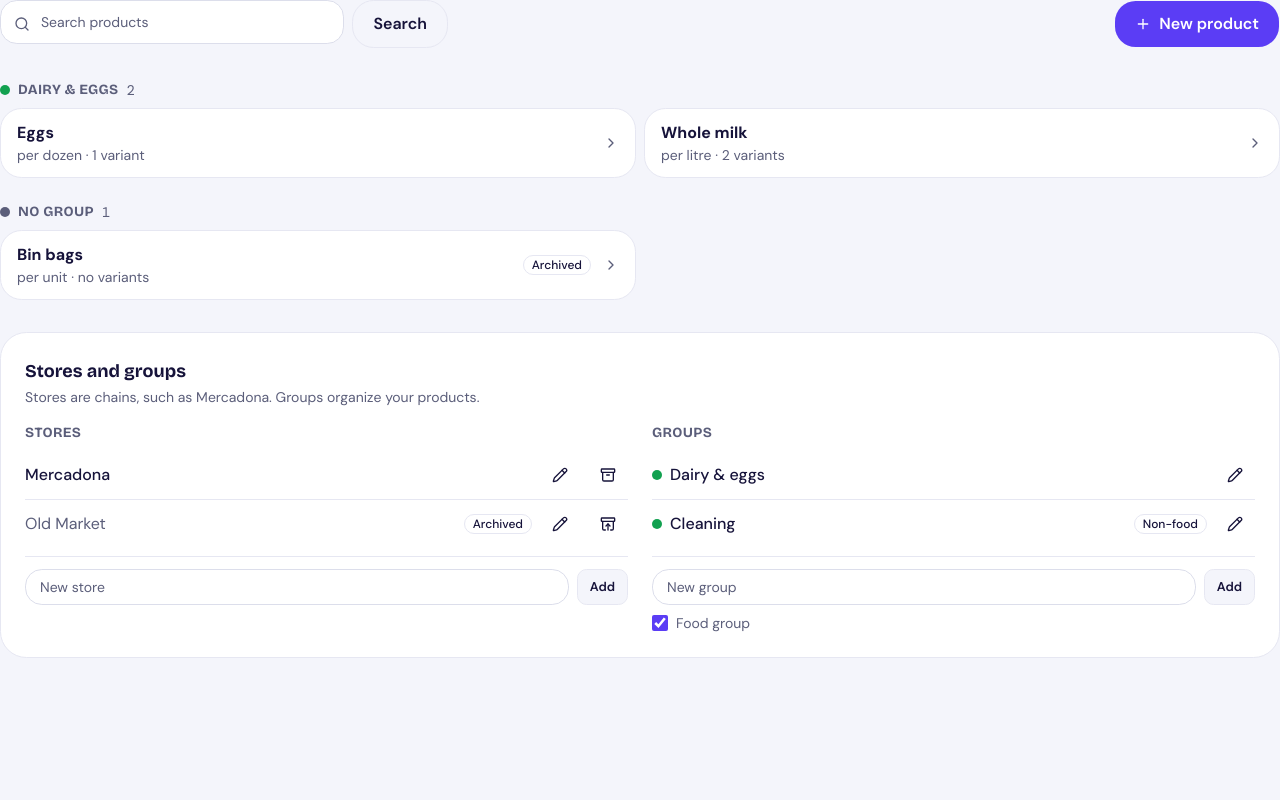
Test: ProductsList › creates a product from the dialog
The image size is (1280, 800).
Click the button "New product". click: x=1197, y=24
box: [1114,0,1279,48]
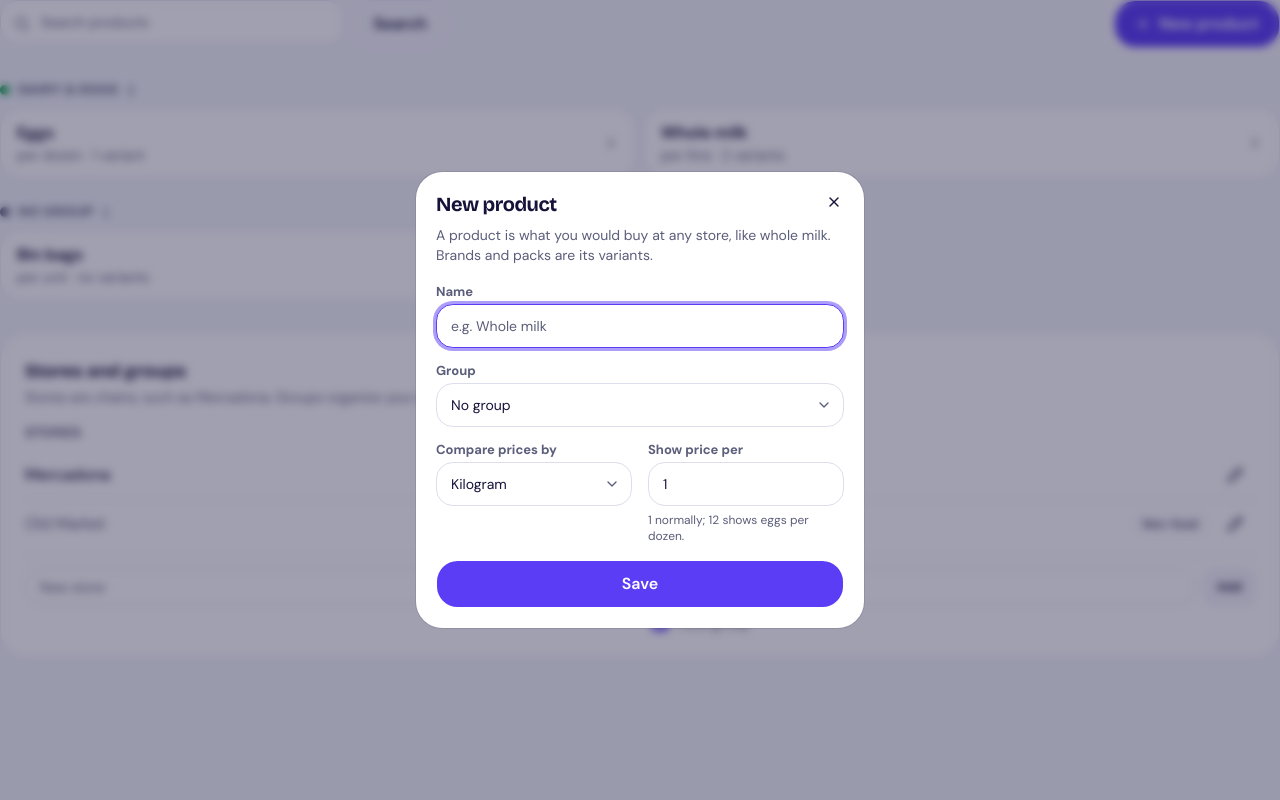
Type "Butter" into the field labelled "Name". click: x=640, y=326
box: [436,304,844,348]
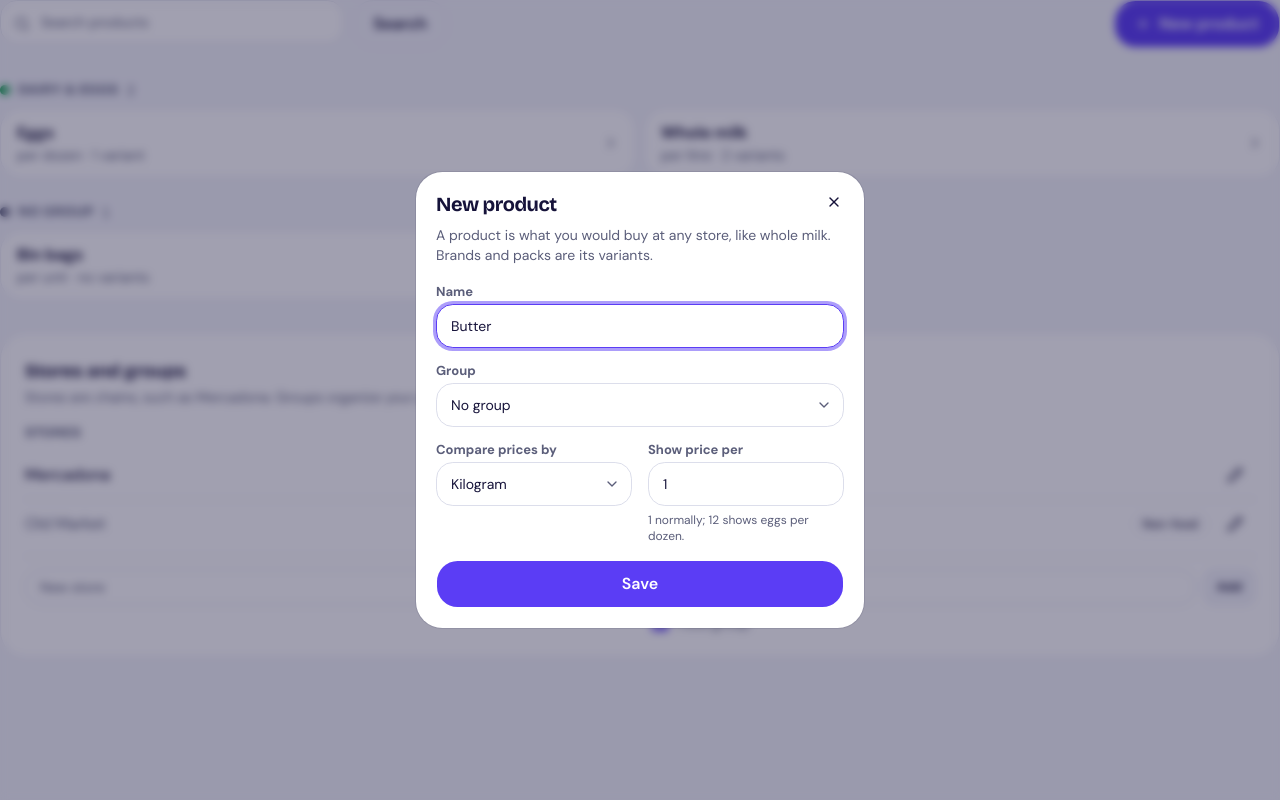
Select "Dairy & eggs" in the dropdown labelled "Group". click: x=640, y=405
box: [436,383,844,427]
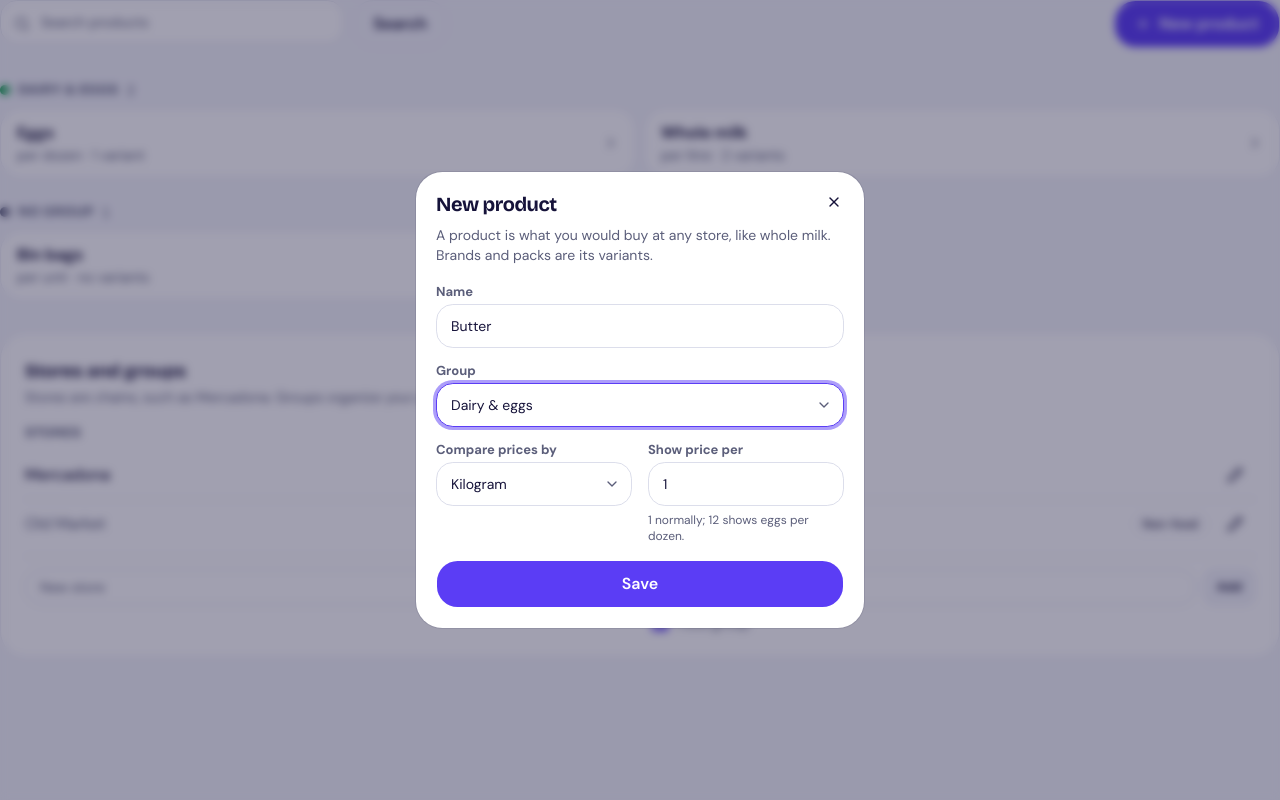
Select "Kilogram" in the dropdown labelled "Compare prices by". click: x=534, y=484
box: [436,462,632,506]
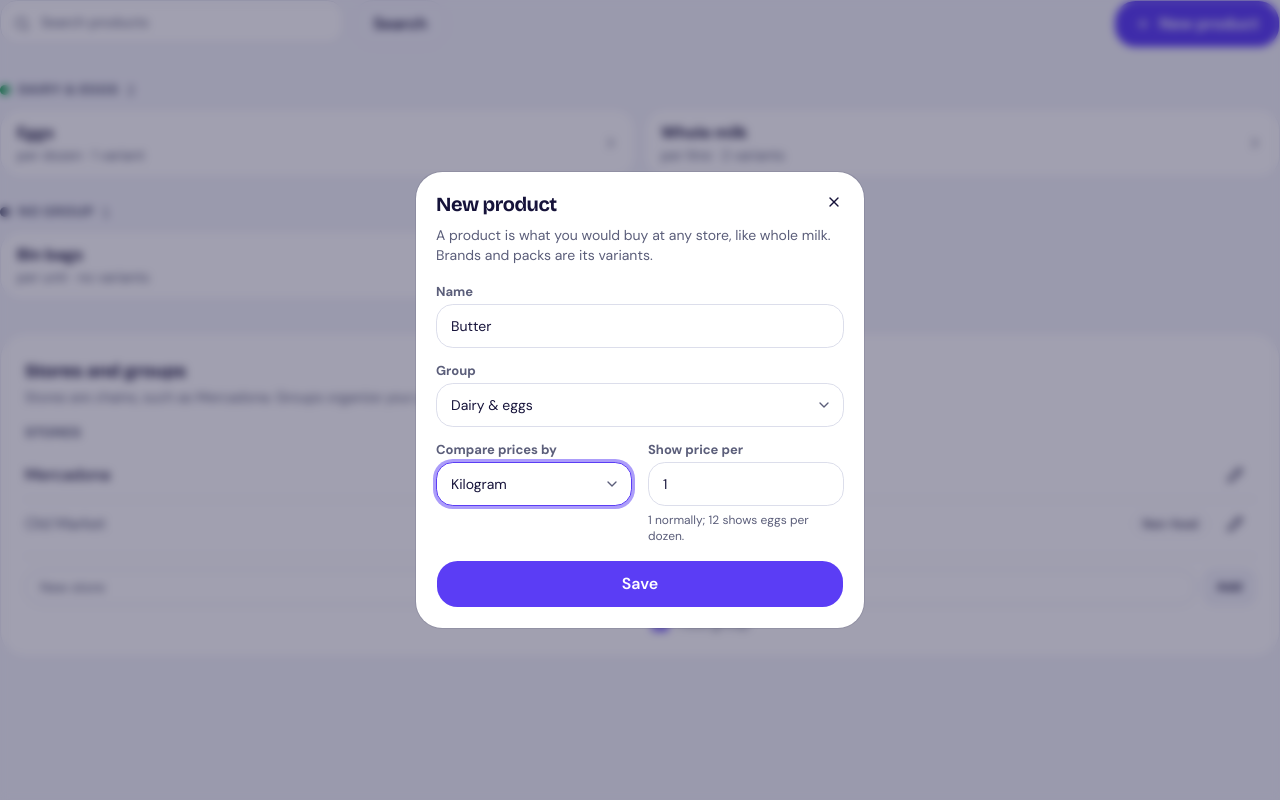
Click the button "Save". click: x=640, y=584
box: [436,560,844,608]
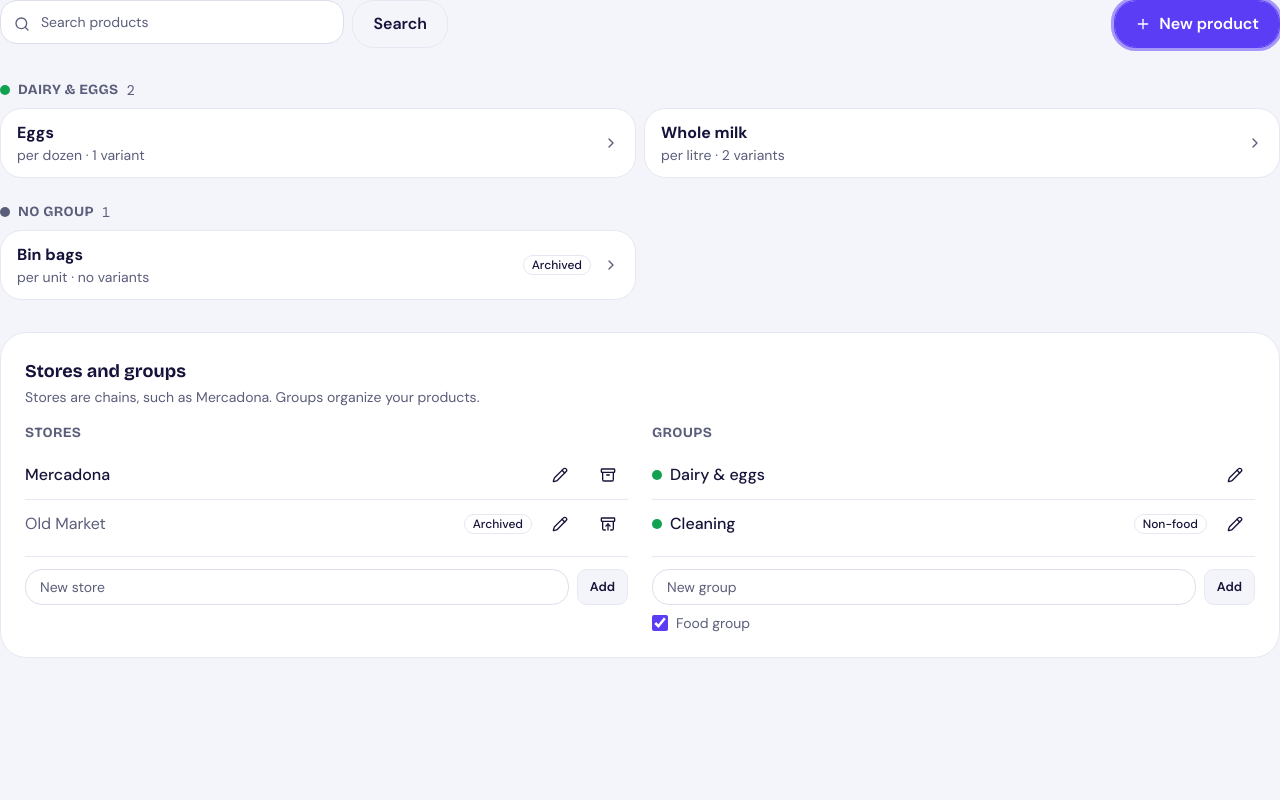
Expected: the dialog is gone
